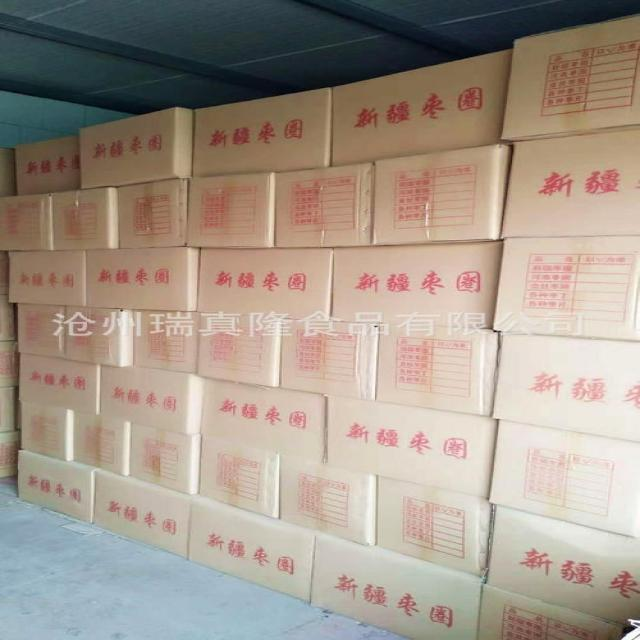box: (330, 50, 514, 168), (485, 505, 639, 631), (310, 532, 483, 638), (500, 14, 639, 143), (324, 395, 496, 498), (490, 419, 639, 537), (492, 332, 639, 443), (492, 235, 639, 341), (502, 128, 639, 238), (331, 243, 499, 329), (189, 494, 321, 602), (372, 144, 511, 245), (192, 89, 330, 177), (375, 476, 493, 578), (377, 324, 497, 417), (201, 378, 326, 464), (199, 248, 332, 321), (79, 106, 192, 189), (91, 469, 195, 559), (279, 455, 375, 547), (273, 163, 372, 248), (478, 584, 624, 638), (280, 319, 375, 401), (97, 365, 202, 436), (85, 247, 201, 311), (199, 437, 280, 520), (185, 174, 274, 249), (197, 313, 279, 387), (16, 449, 98, 523), (130, 424, 201, 496), (16, 353, 97, 414), (117, 180, 187, 249), (7, 250, 85, 306), (62, 306, 132, 367), (13, 134, 82, 195), (132, 309, 196, 374), (52, 187, 118, 249), (73, 410, 132, 478), (19, 400, 73, 462), (0, 194, 52, 251), (15, 304, 64, 357)
